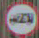Heavy Vehicles: (3, 2, 38, 35)
